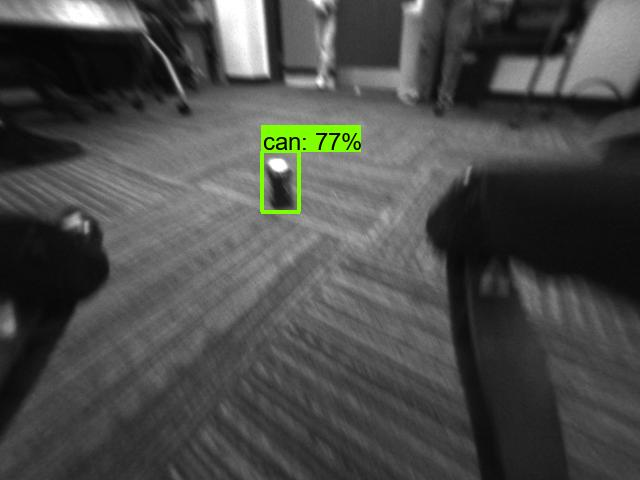can: (262, 154, 299, 211)
